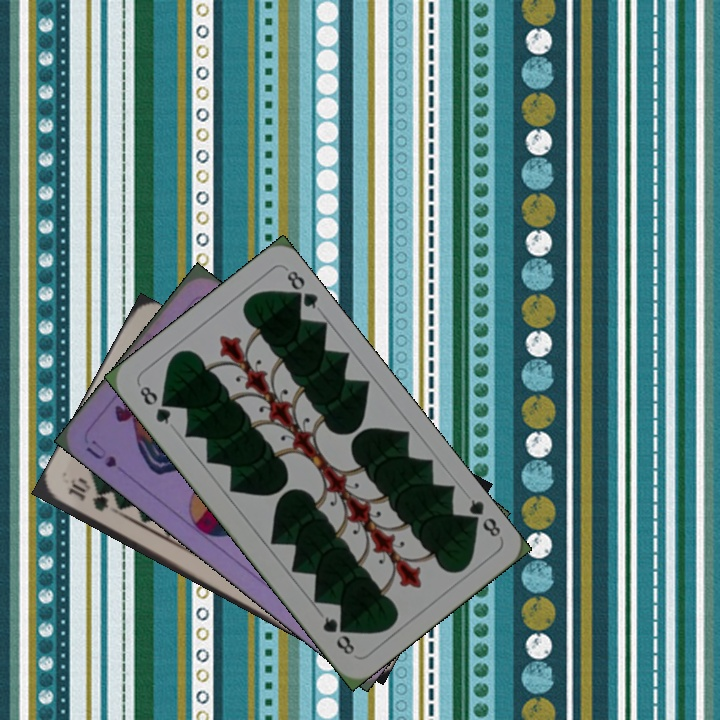G10: (63, 476, 112, 514)
G8: (460, 495, 504, 540), (134, 380, 174, 427)
SU: (82, 435, 120, 471)
